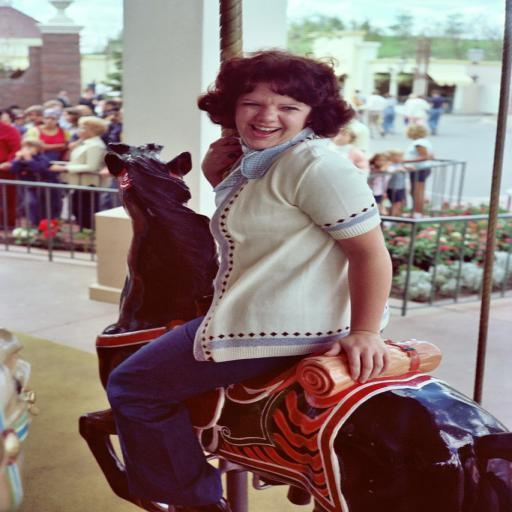horse: (78, 140, 512, 512)
